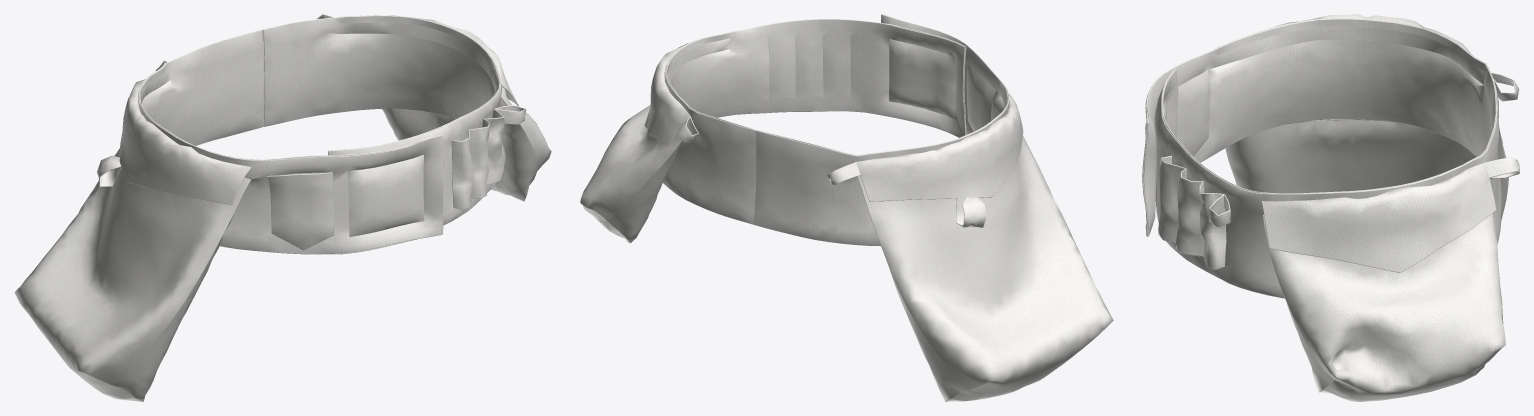
3 renders of one model, left to right at view 1: azimuth 30°, elevation 25°; view 2: azimuth 150°, elevation 25°; view 3: azimuth 270°, elevation 25°, orthographic. The views are drawn at different scales.
Parts seen in each view (by area): view 1: Pattern2D_40948 (×2), Pattern2D_16619, Pattern2D_40963 (×2), Pattern2D_23540, Pattern2D_36400, Pattern2D_36398, Pattern2D_27654, Pattern2D_16618, Pattern2D_36379, Pattern2D_27655, Pattern2D_40964; view 2: Pattern2D_16619, Pattern2D_40963 (×2), Pattern2D_40948 (×2), Pattern2D_23540, Pattern2D_36379, Pattern2D_27655, Pattern2D_16618, Pattern2D_36398, Pattern2D_40964; view 3: Pattern2D_40948 (×2), Pattern2D_36379, Pattern2D_27655, Pattern2D_16618, Pattern2D_40963 (×2), Pattern2D_27654, Pattern2D_36398, Pattern2D_23540, Pattern2D_36399, Pattern2D_26878, Pattern2D_40965.
Boxes of the visible parts, box(x1,y1,x2,y2) form: Pattern2D_40948 (×2): box(138, 30, 443, 254); Pattern2D_16619: box(14, 148, 250, 387); Pattern2D_40963 (×2): box(262, 15, 505, 225); Pattern2D_23540: box(119, 79, 251, 204); Pattern2D_36400: box(267, 172, 334, 250); Pattern2D_36398: box(382, 97, 538, 201); Pattern2D_27654: box(451, 109, 504, 209); Pattern2D_16618: box(88, 205, 237, 401); Pattern2D_36379: box(501, 87, 551, 169); Pattern2D_27655: box(390, 15, 519, 106); Pattern2D_40964: box(97, 151, 121, 186); Pattern2D_16619: box(857, 136, 1113, 392); Pattern2D_40963 (×2): box(662, 19, 966, 224); Pattern2D_40948 (×2): box(753, 14, 1009, 246); Pattern2D_23540: box(856, 93, 1023, 201); Pattern2D_36379: box(580, 105, 681, 222); Pattern2D_27655: box(644, 43, 689, 146); Pattern2D_16618: box(861, 187, 1063, 401); Pattern2D_36398: box(601, 140, 682, 243); Pattern2D_40964: box(956, 197, 986, 227); Pattern2D_40948 (×2): box(1142, 18, 1501, 236); Pattern2D_36379: box(1263, 213, 1505, 396); Pattern2D_27655: box(1261, 162, 1496, 272); Pattern2D_16618: box(1225, 120, 1507, 220); Pattern2D_40963 (×2): box(1155, 68, 1501, 298); Pattern2D_27654: box(1158, 155, 1226, 270); Pattern2D_36398: box(1273, 266, 1485, 401); Pattern2D_23540: box(1275, 14, 1470, 52); Pattern2D_36399: box(1485, 157, 1519, 178); Pattern2D_26878: box(1209, 194, 1230, 227); Pattern2D_40965: box(1491, 72, 1519, 101).
Size of the model in its own units: 40.86 by 20.14 by 24.04.
